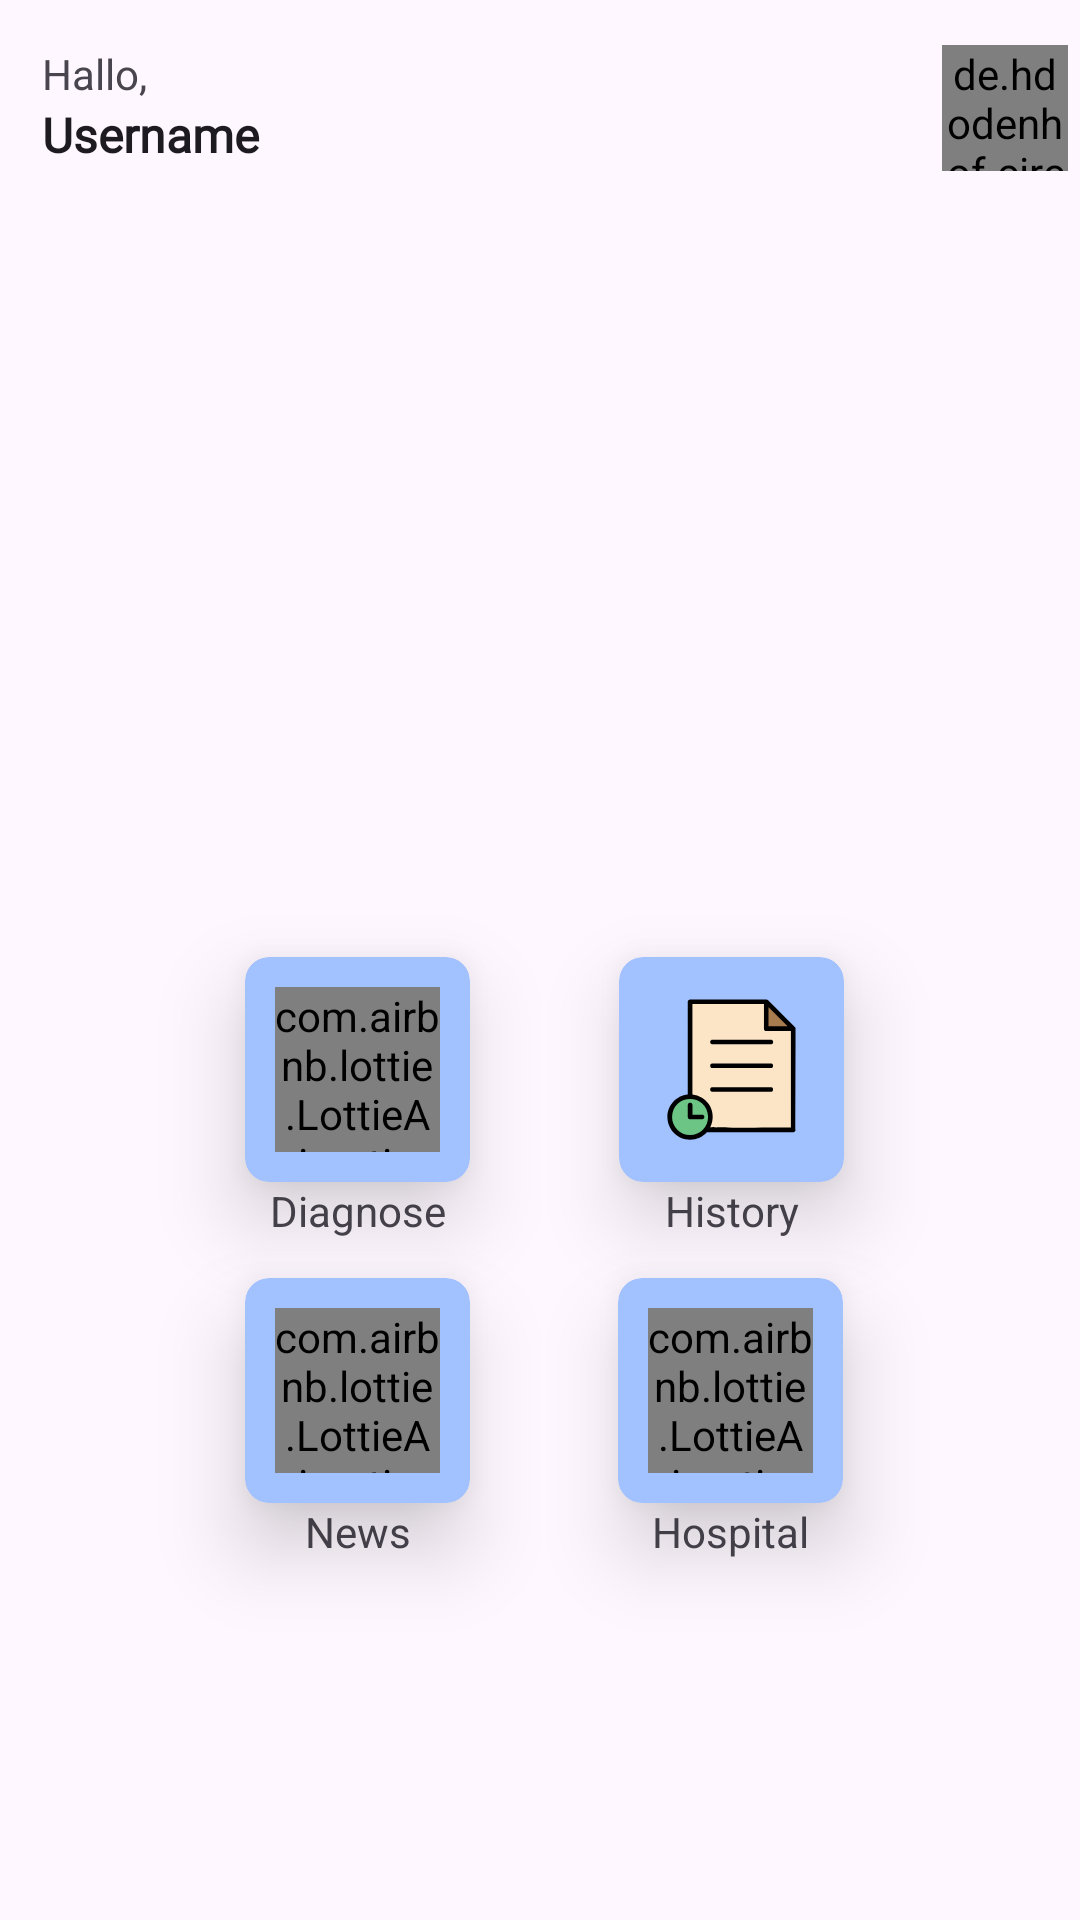

Screen size 1080×1920. Icon name, then its box in pixels as bbox=[x1, y1, x2, y2]:
rencent: bbox=[667, 999, 796, 1140]
